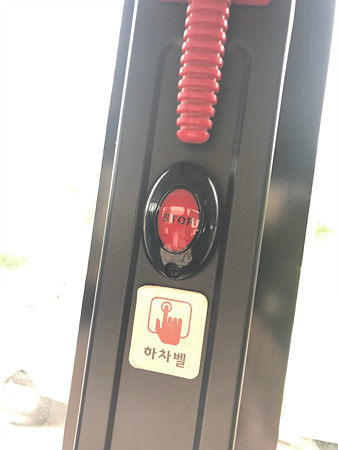bell: (142, 161, 221, 281)
